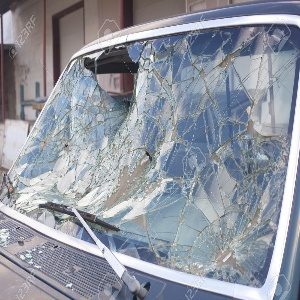front_windshield_glass: (15, 48, 279, 236)
